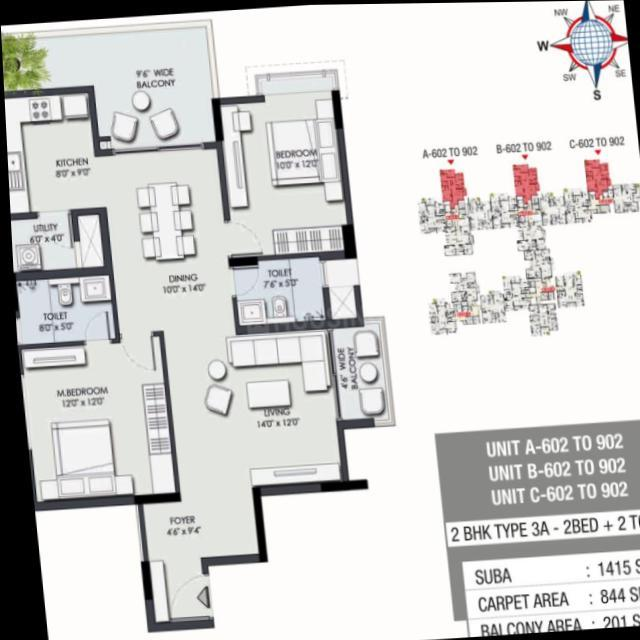Balcony-Sitout: (1, 25, 214, 147), (329, 325, 384, 419)
Bedroom: (218, 96, 347, 255)
Bedroom with Toilet: (11, 269, 172, 503)
Dining: (126, 170, 201, 275)
Enterance-Foyer: (138, 498, 206, 623)
Kitchen: (4, 90, 99, 213)
Living: (162, 329, 338, 490)
Toilet: (14, 274, 112, 343), (230, 255, 322, 325)
Utility: (8, 209, 74, 270)
